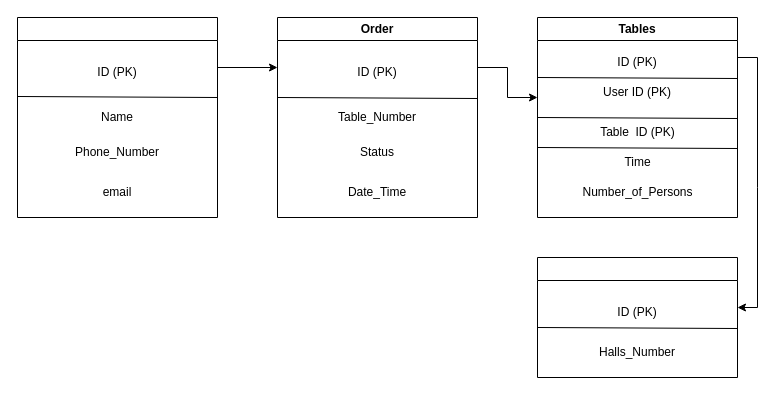
Image size: 783x395. Some labels were removed from this diagram. The shapes that lost their labels are listed below. From the top down, each one's box as (x1, y1, x2, y2) in pixels, then its label:
(16, 16, 218, 218): Customer
(536, 256, 738, 378): Restaurant Halls
